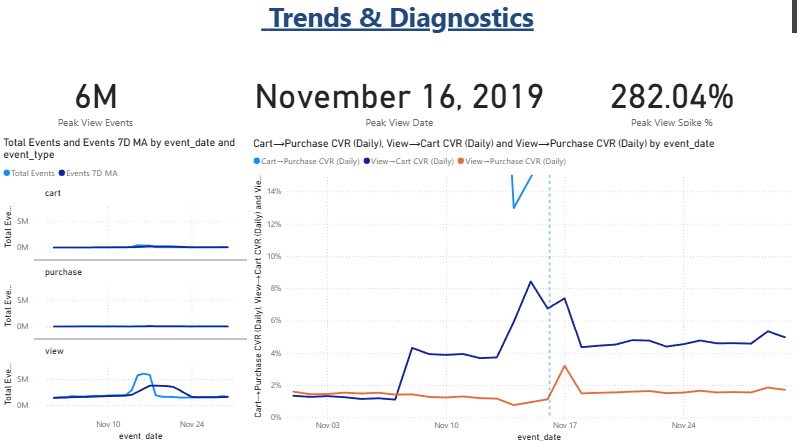

The dashboard page shown, as its layout file describes it:
{"tool":"powerbi","page":{"name":"Trends & Diagnostics","canvas":[1280,720],"ordinal":3},"visuals":[{"type":"textbox","box":[0,0,1280,66.2],"z":0},{"type":"lineChart","fields":{"Category":["daily_event_counts.event_date"],"Y":["daily_event_counts.Total Events","daily_event_counts.Events 7D MA"],"Rows":["daily_event_counts.event_type"]},"box":[0,226.2,400,493.8],"z":1000},{"type":"lineChart","fields":{"Y":["daily_event_counts.Cart→Purchase CVR (Daily)","daily_event_counts.View→Cart CVR (Daily)","daily_event_counts.View→Purchase CVR (Daily)"],"Category":["daily_event_counts.event_date"]},"box":[400,226.2,880,493.8],"z":1001},{"type":"card","fields":{"Values":["daily_event_counts.Peak View Spike %"]},"box":[921.2,116.2,306.2,98.8],"z":1002},{"type":"card","fields":{"Values":["daily_event_counts.Peak View Date"]},"box":[358.8,116.2,562.5,98.8],"z":1003},{"type":"card","fields":{"Values":["daily_event_counts.Peak View Events"]},"box":[0,116.2,306.2,98.8],"z":1004}]}

Visuals, with their boxes in screenshot pixels (x1, y1, x2, y2), scaled from the page's 1280x720 canvas onto the 800x441 screenshot:
textbox: left=0, top=0, right=799, bottom=41
lineChart - daily_event_counts.event_date x daily_event_counts.Total Events: left=0, top=139, right=250, bottom=440
lineChart - daily_event_counts.Cart→Purchase CVR (Daily) x daily_event_counts.View→Cart CVR (Daily): left=250, top=139, right=799, bottom=440
card - daily_event_counts.Peak View Spike %: left=576, top=71, right=767, bottom=132
card - daily_event_counts.Peak View Date: left=224, top=71, right=576, bottom=132
card - daily_event_counts.Peak View Events: left=0, top=71, right=191, bottom=132
